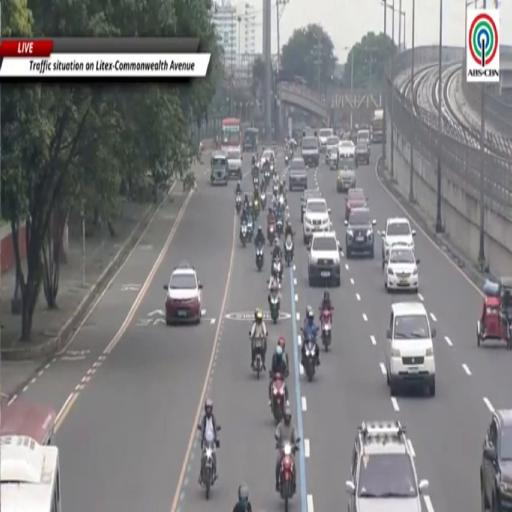bus: (0, 437, 61, 511), (0, 396, 56, 444), (221, 118, 241, 151), (372, 109, 384, 142)
car: (346, 421, 428, 511), (386, 302, 436, 397), (480, 410, 511, 510), (164, 263, 202, 326), (380, 218, 416, 268), (384, 245, 419, 293), (309, 232, 340, 285), (345, 208, 376, 259), (303, 198, 332, 244), (345, 188, 367, 220), (288, 157, 308, 191), (301, 188, 321, 222), (337, 159, 356, 193), (301, 137, 319, 168), (227, 149, 242, 180), (326, 136, 339, 164), (318, 128, 333, 151), (355, 142, 370, 165), (259, 150, 275, 169), (356, 130, 371, 149), (339, 140, 354, 157), (327, 149, 338, 170)
motorcycle: (277, 438, 300, 511), (201, 440, 219, 500), (270, 372, 285, 424), (303, 336, 317, 381), (252, 338, 264, 379), (321, 310, 332, 351), (270, 288, 280, 324), (271, 258, 282, 282), (255, 245, 264, 272), (285, 237, 293, 266), (240, 223, 248, 247), (247, 217, 254, 242), (268, 224, 275, 246), (252, 201, 260, 220), (278, 194, 287, 210), (276, 217, 283, 237), (260, 191, 266, 210), (236, 196, 242, 214), (264, 169, 270, 185), (273, 184, 278, 197), (270, 163, 275, 174), (253, 176, 258, 187), (285, 154, 288, 166)
tricycle: (477, 278, 511, 349)
